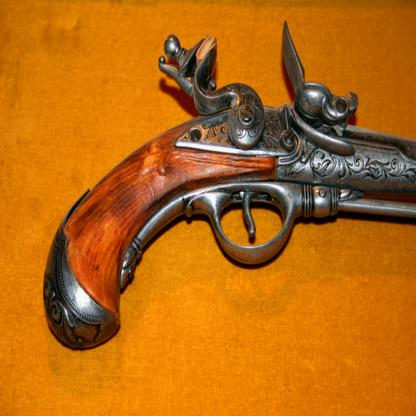Handgun: (43, 20, 416, 350)
